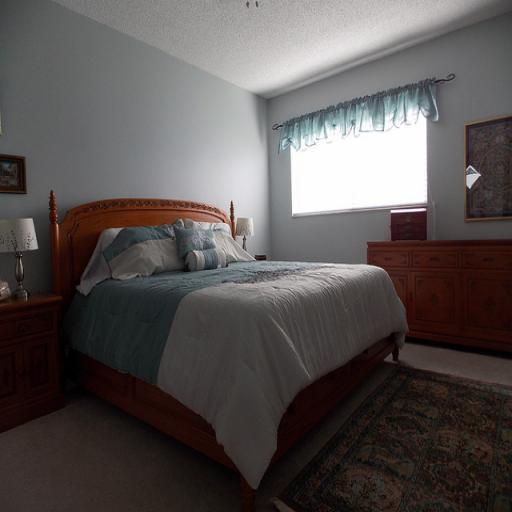bed: (48, 162, 438, 482)
